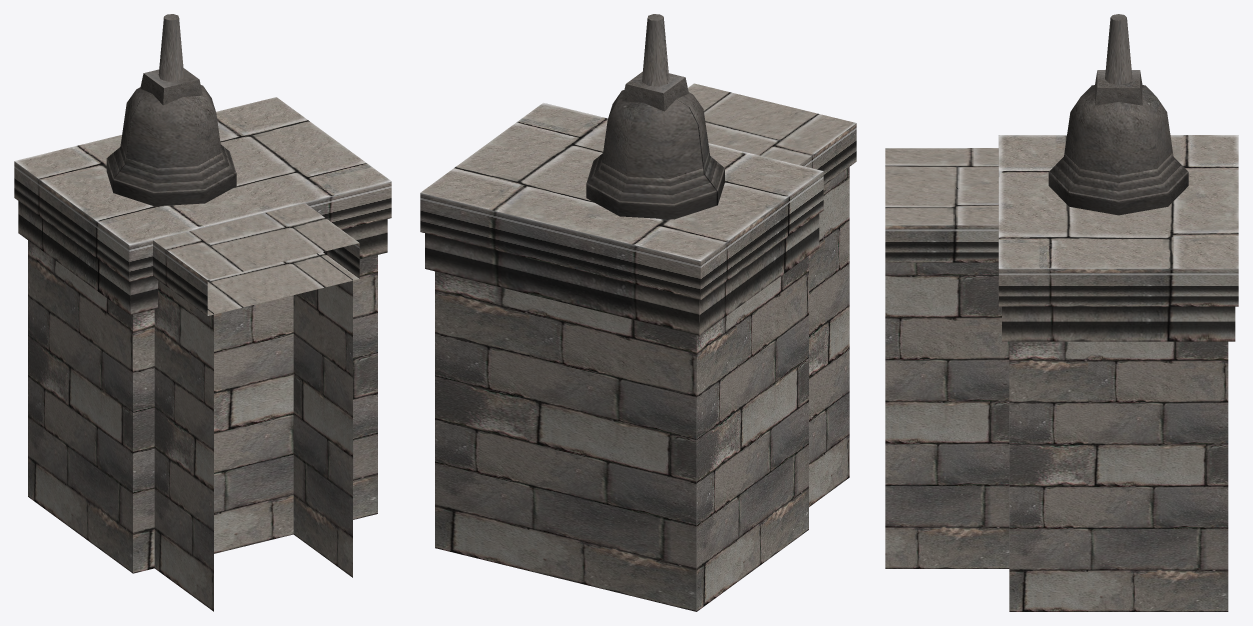
File: Modul_E.FBX
The picture shows the model from 3 angles, left to right: view 1: azimuth 30°, elevation 25°; view 2: azimuth 150°, elevation 25°; view 3: azimuth 270°, elevation 25°; orthographic projection. The views are drawn at different scales.
Parts seen in each view (by area): view 1: Modul_E; view 2: Modul_E; view 3: Modul_E.
Boxes of the visible parts, x1,y1,x2,y2 form: Modul_E: [14, 14, 391, 611]; Modul_E: [420, 14, 856, 611]; Modul_E: [885, 14, 1238, 611].
Size of the model in its own units: 1.13 by 2.04 by 1.27.
